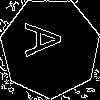A: (25, 22, 71, 58)
